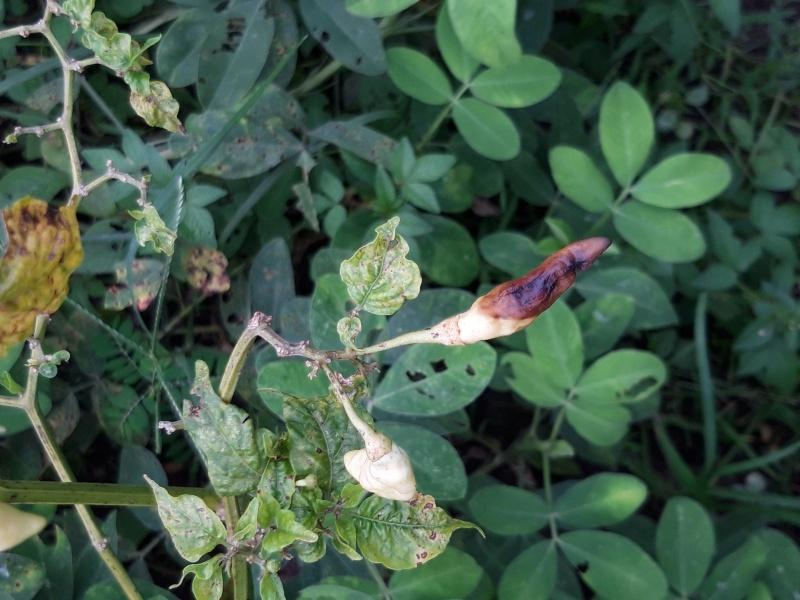antraknosa: (455, 235, 611, 346)
cabai_normal: (344, 443, 419, 499)
